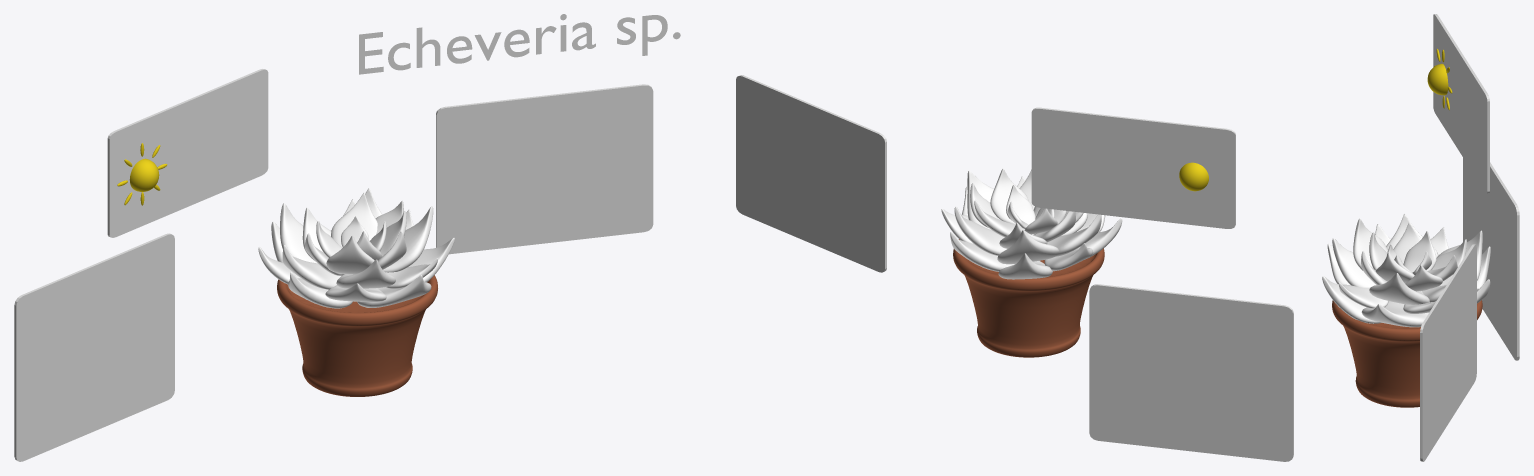
The model's file is Echeveria UI.glb.
3 views of the same model, side by side, from view 1: azimuth 30°, elevation 25°; view 2: azimuth 150°, elevation 25°; view 3: azimuth 270°, elevation 25° (orthographic). The views are drawn at different scales.
Parts seen in each view (by area): view 1: Plane, Plane.001, Plane.002, Cylinder, Text, Cube.028, Cube.004, Cube.002, Cube.030, Cube.023, Cube.027, Cube.001 (+4 smaller); view 2: Plane.001, Plane, Plane.002, Cylinder, Cube.030, Cube.029, Cube.037, Cube.005, Cube.024, Cube.004, Sphere, Cube.034 (+1 smaller); view 3: Plane, Plane.001, Cylinder, Plane.002, Cube.036, Cube.028, Cube.027, Cube.001, Cube.019, Cube.002, Cube.031, Cube.024 (+14 smaller).
Boxes of the visible parts, <box> form: Plane: <box>436,84,653,254</box>; Plane.001: <box>14,233,174,461</box>; Plane.002: <box>107,69,268,237</box>; Cylinder: <box>277,275,437,396</box>; Text: <box>359,14,680,74</box>; Cube.028: <box>383,206,433,272</box>; Cube.004: <box>282,245,341,289</box>; Cube.002: <box>326,235,374,274</box>; Cube.030: <box>280,203,317,263</box>; Cube.023: <box>331,192,377,247</box>; Cube.027: <box>336,259,395,288</box>; Cube.001: <box>357,275,431,307</box>; Plane.001: <box>1089,284,1293,461</box>; Plane: <box>736,75,886,272</box>; Plane.002: <box>1031,107,1235,228</box>; Cylinder: <box>953,239,1104,357</box>; Cube.030: <box>997,230,1059,264</box>; Cube.029: <box>954,206,1006,255</box>; Cube.037: <box>950,231,1014,271</box>; Cube.005: <box>998,253,1052,279</box>; Cube.024: <box>990,168,1028,224</box>; Cube.004: <box>1047,214,1101,256</box>; Sphere: <box>1179,162,1208,191</box>; Cube.034: <box>1044,243,1093,271</box>; Plane: <box>1420,244,1476,461</box>; Plane.001: <box>1463,158,1519,360</box>; Cylinder: <box>1332,300,1482,407</box>; Plane.002: <box>1433,14,1489,193</box>; Cube.036: <box>1361,301,1428,327</box>; Cube.028: <box>1369,273,1429,304</box>; Cube.027: <box>1332,238,1375,287</box>; Cube.001: <box>1322,276,1381,323</box>; Cube.019: <box>1403,231,1436,272</box>; Cube.002: <box>1353,218,1387,270</box>; Cube.031: <box>1338,282,1388,308</box>; Cube.024: <box>1375,252,1414,283</box>.
Bounding box in the file's own units: 234 × 113 × 66.5.
